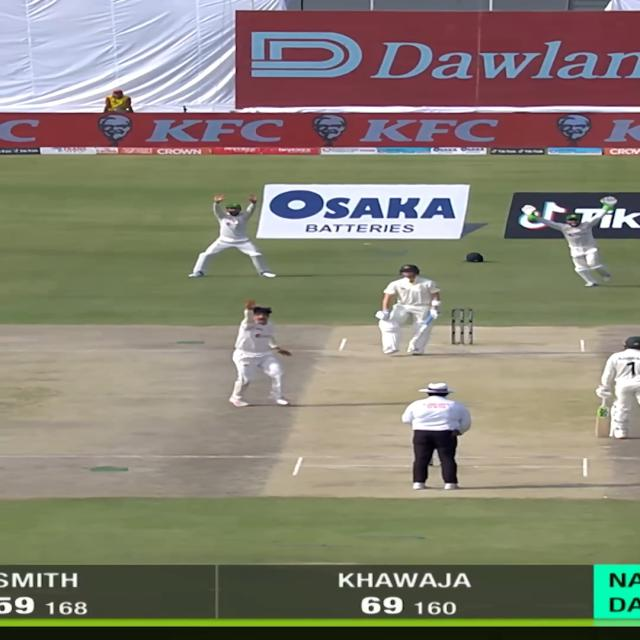stump: (450, 308, 474, 345)
